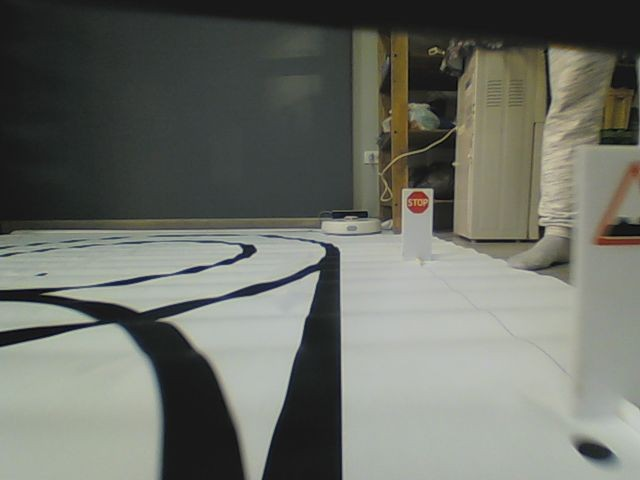Nerov: (595, 161, 640, 252)
Stop: (406, 190, 430, 215)
